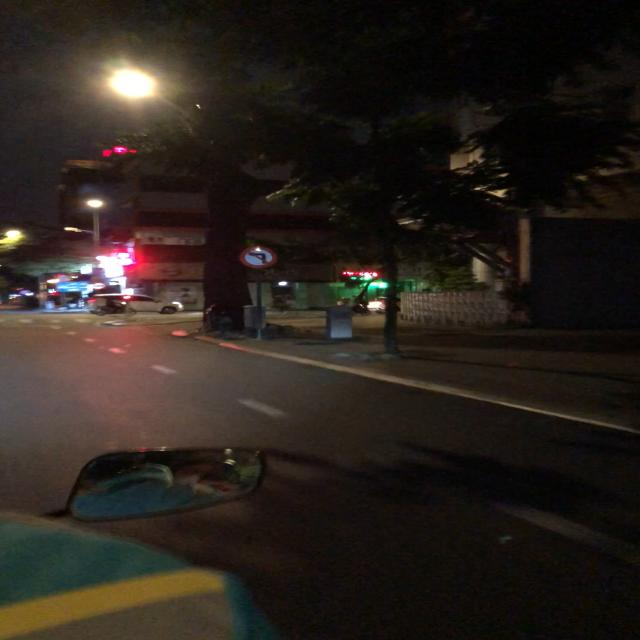Bien bao cam re trai: (236, 244, 280, 269)
